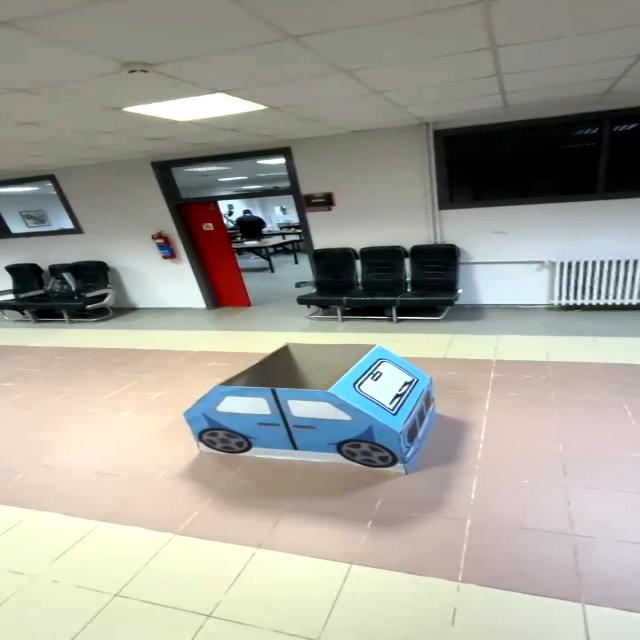blue_car: (187, 331, 458, 498)
